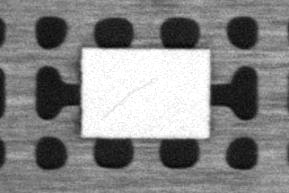DIE_CRACK: (105, 77, 156, 121)
